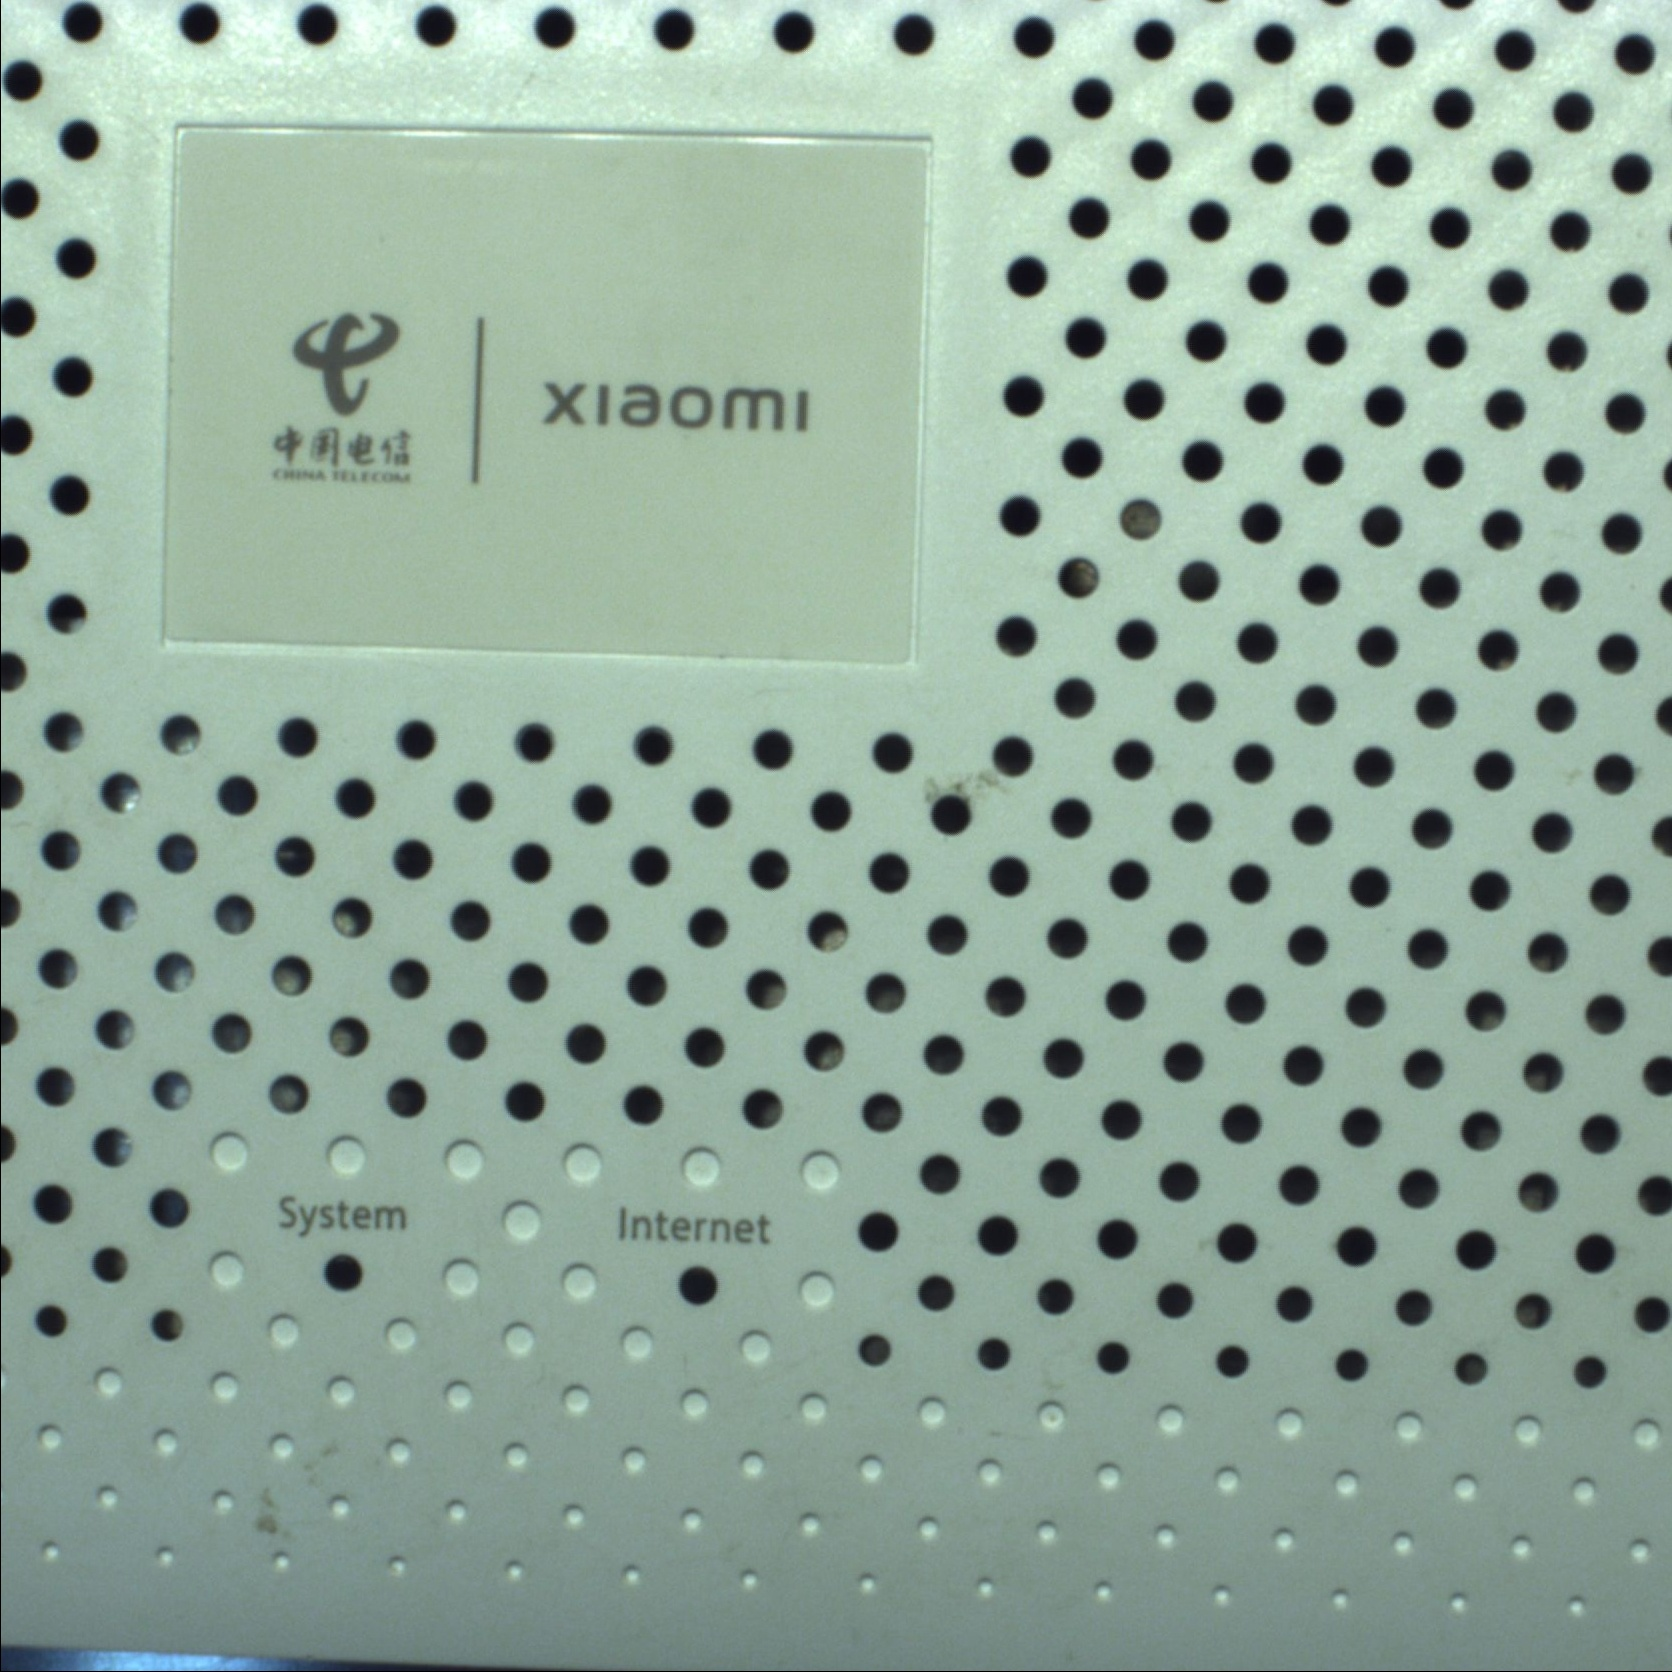MAA_Telecom: (260, 291, 825, 488)
